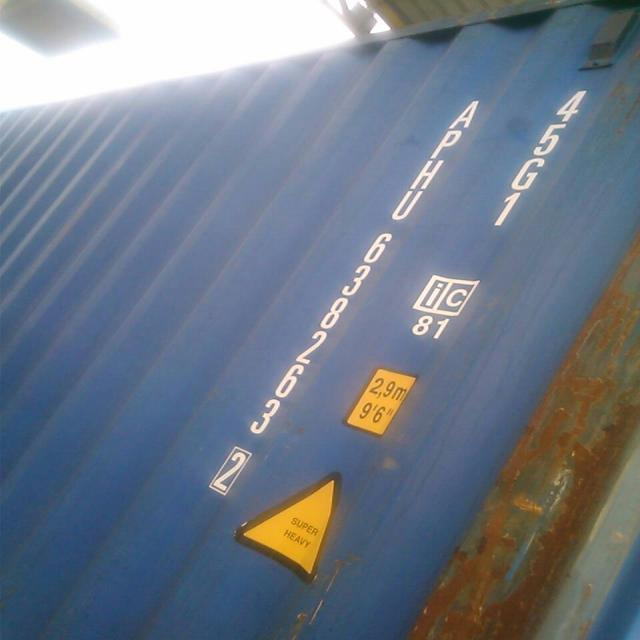rust: (411, 232, 640, 640)
